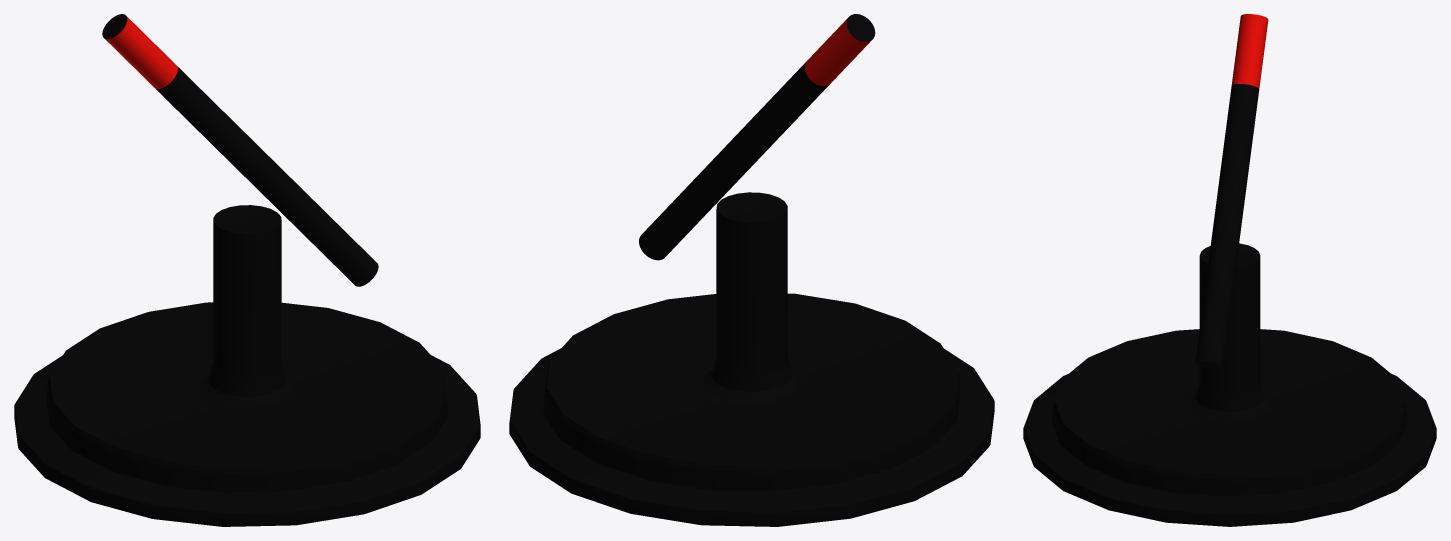
Rendered from baguette.fbx.
The picture shows the model from 3 angles, left to right: view 1: azimuth 30°, elevation 25°; view 2: azimuth 150°, elevation 25°; view 3: azimuth 270°, elevation 25°; orthographic projection. The views are drawn at different scales.
Parts seen in each view (by area): view 1: Socle_pomme, Baguette; view 2: Socle_pomme, Baguette; view 3: Socle_pomme, Baguette.
Boxes of the visible parts, box(x1,y1,x2,y2) form: Socle_pomme: box(14, 205, 480, 526); Baguette: box(102, 14, 378, 286); Socle_pomme: box(509, 192, 994, 526); Baguette: box(639, 14, 875, 260); Socle_pomme: box(1023, 243, 1436, 526); Baguette: box(1195, 14, 1268, 368).
Size of the model in its own units: 200 by 203 by 200.
